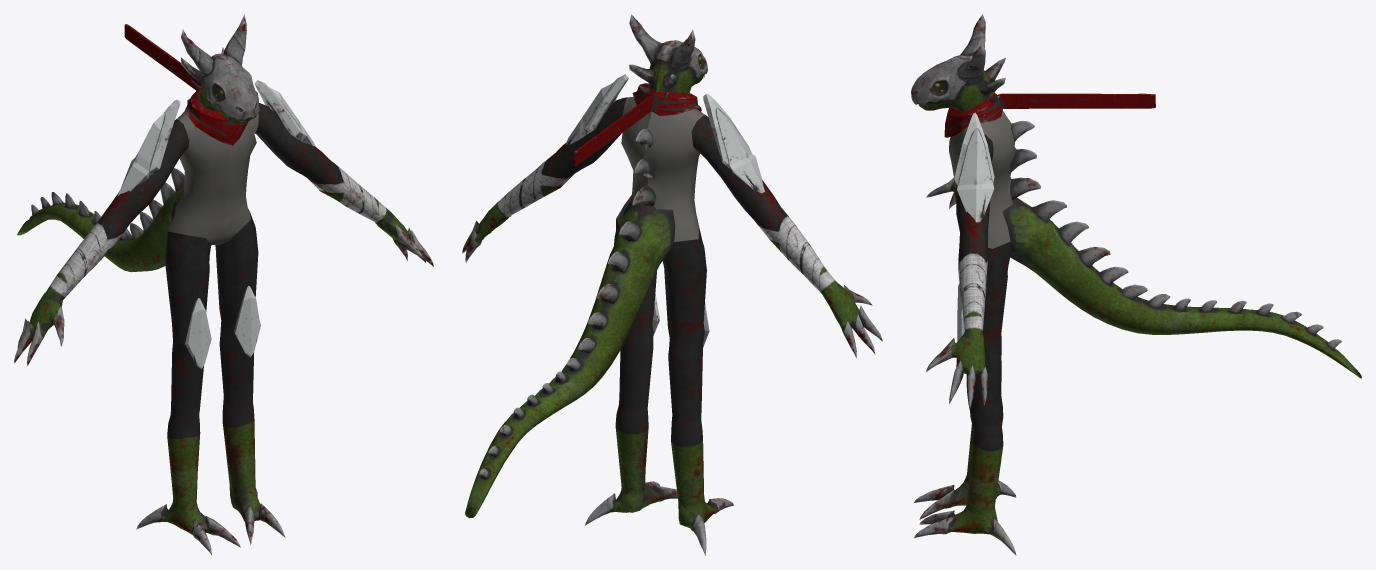
3 views of the same model, side by side, from view 1: azimuth 30°, elevation 25°; view 2: azimuth 150°, elevation 25°; view 3: azimuth 270°, elevation 25° (orthographic).
Visible parts, largest first — view 1: T_L, A_L, O_L; view 2: T_L, A_L, O_L; view 3: T_L, O_L, A_L.
Boxes of the visible parts, <box> form: T_L: <box>14,14,433,555</box>; A_L: <box>117,80,315,369</box>; O_L: <box>124,24,247,145</box>; T_L: <box>462,14,882,555</box>; A_L: <box>565,74,764,347</box>; O_L: <box>573,83,701,165</box>; T_L: <box>911,14,1361,555</box>; O_L: <box>944,92,1155,137</box>; A_L: <box>954,112,994,341</box>.
Size of the model in its own units: 6.82 by 8 by 6.56.
